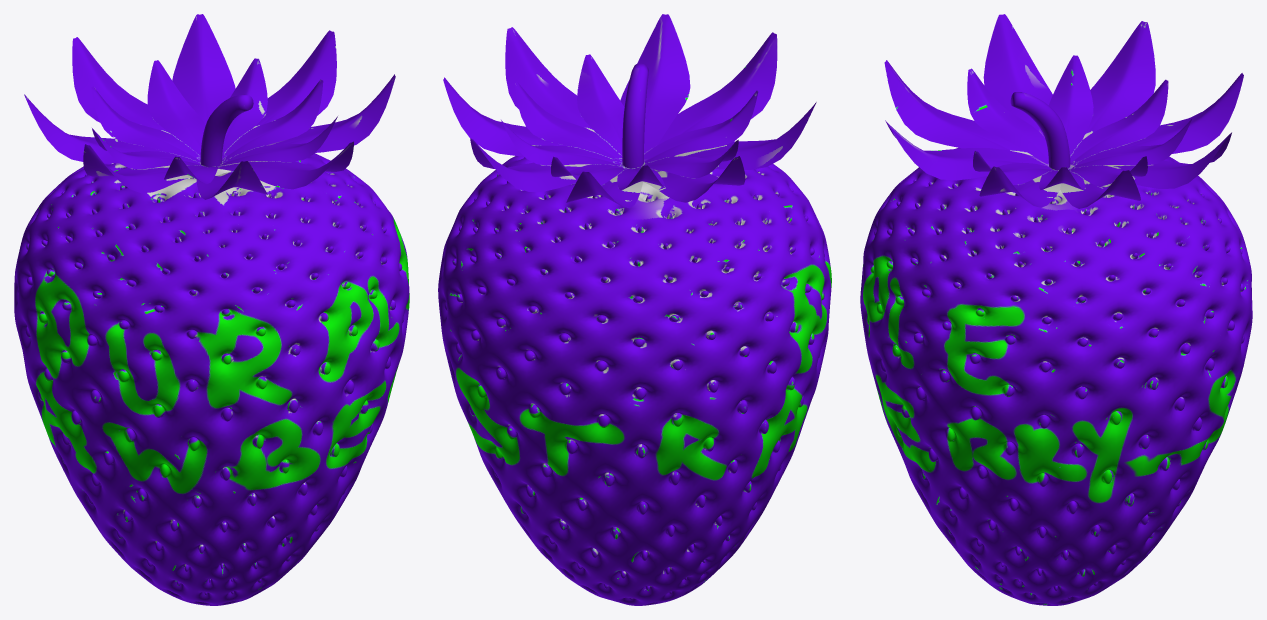
Rendered from asset.glb.
3 views of the same model, side by side, from view 1: azimuth 30°, elevation 25°; view 2: azimuth 150°, elevation 25°; view 3: azimuth 270°, elevation 25° (orthographic).
Visible parts, largest first — view 1: strawberry; view 2: strawberry; view 3: strawberry.
Part boxes in pixels (x1,y1,x2,y2): strawberry: [14, 14, 409, 605]; strawberry: [438, 14, 831, 605]; strawberry: [860, 14, 1252, 605].
Size of the model in its own units: 4.9 by 7.08 by 4.9.
1 material, 1 textured.
